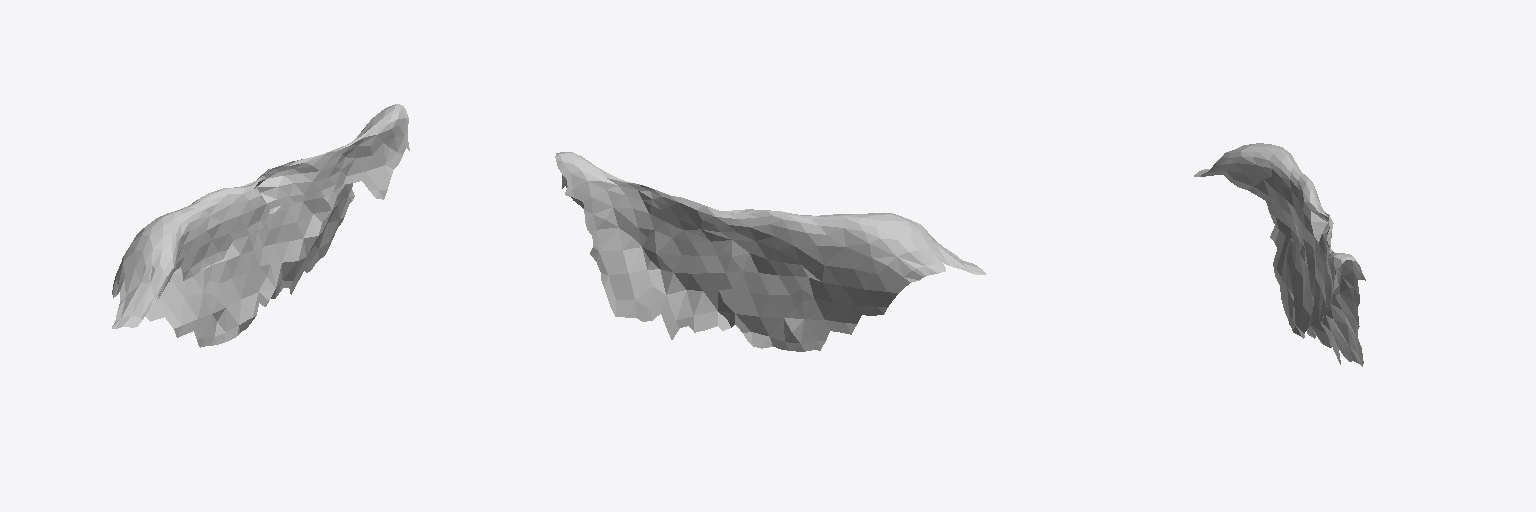
The model's file is R_lateral_fissure_anterior_horizontal.obj.
3 renders of one model, left to right at view 1: azimuth 30°, elevation 25°; view 2: azimuth 150°, elevation 25°; view 3: azimuth 270°, elevation 25°, orthographic.
Parts seen in each view (by area): view 1: R_lateral_fissure_anterior_horizontal_L_lateral_fissure_anterior; view 2: R_lateral_fissure_anterior_horizontal_L_lateral_fissure_anterior; view 3: R_lateral_fissure_anterior_horizontal_L_lateral_fissure_anterior.
Part boxes in pixels (x1,y1,x2,y2): R_lateral_fissure_anterior_horizontal_L_lateral_fissure_anterior: (112,104,409,347); R_lateral_fissure_anterior_horizontal_L_lateral_fissure_anterior: (555,152,985,351); R_lateral_fissure_anterior_horizontal_L_lateral_fissure_anterior: (1194,143,1365,366).
Bounding box in the file's own units: 71.32 × 31.71 × 29.4.